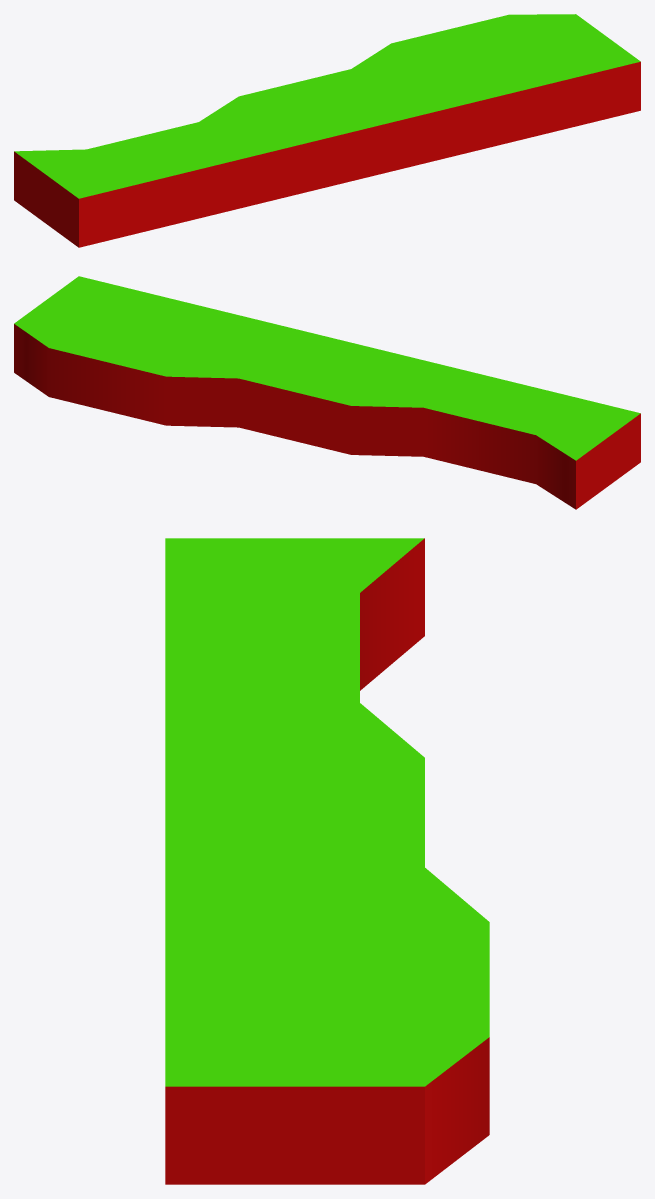
Rendered from GroundMediumCrackedLeft.fbx.
3 renders of one model, top to bottom at view 1: azimuth 30°, elevation 25°; view 2: azimuth 150°, elevation 25°; view 3: azimuth 270°, elevation 25°, orthographic. The views are drawn at different scales.
Parts seen in each view (by area): view 1: polySurface1; view 2: polySurface1; view 3: polySurface1.
Part boxes in pixels (bbox=[...]): polySurface1: bbox=[14, 14, 640, 247]; polySurface1: bbox=[14, 276, 640, 509]; polySurface1: bbox=[165, 538, 489, 1184].
Size of the model in its own units: 6 by 0.5 by 1.5.
